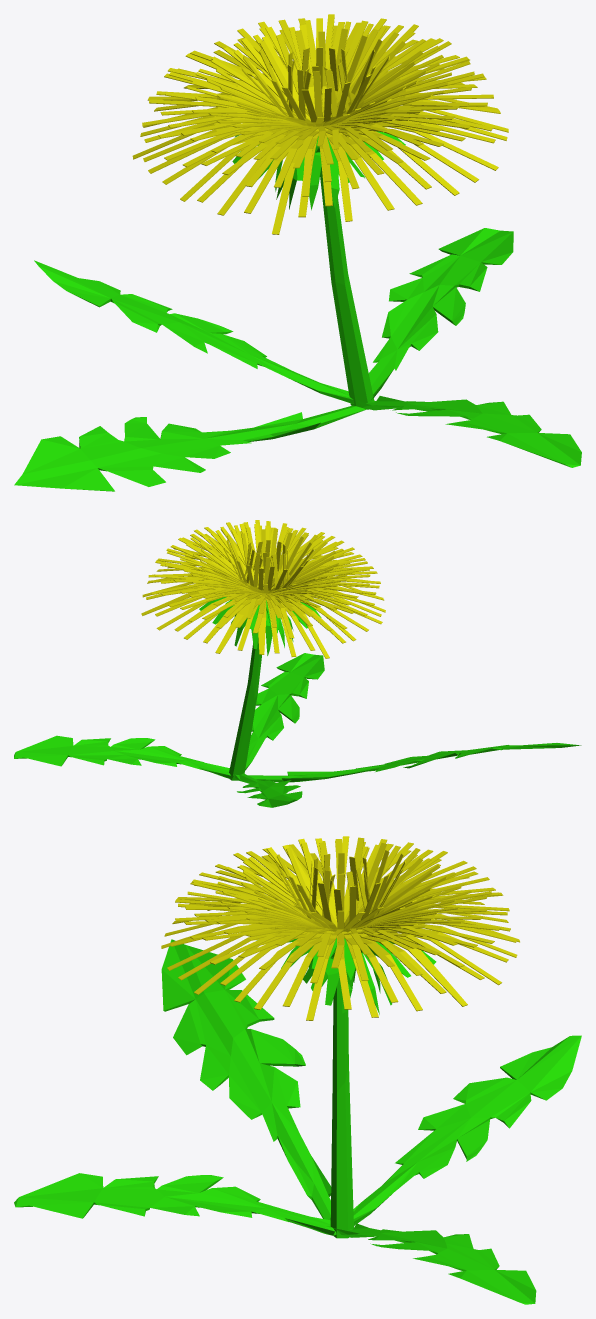
File: Dandelion_LP.fbx
3 views of the same model, one above another, from view 1: azimuth 30°, elevation 25°; view 2: azimuth 150°, elevation 25°; view 3: azimuth 270°, elevation 25° (orthographic). The views are drawn at different scales.
Parts seen in each view (by area): view 1: Dandelion_LP_3.002; view 2: Dandelion_LP_3.002; view 3: Dandelion_LP_3.002.
Boxes of the visible parts, x1,y1,x2,y2 form: Dandelion_LP_3.002: (14, 14, 581, 491); Dandelion_LP_3.002: (14, 520, 581, 807); Dandelion_LP_3.002: (14, 836, 581, 1304).
Size of the model in its own units: 241 by 124 by 180.
